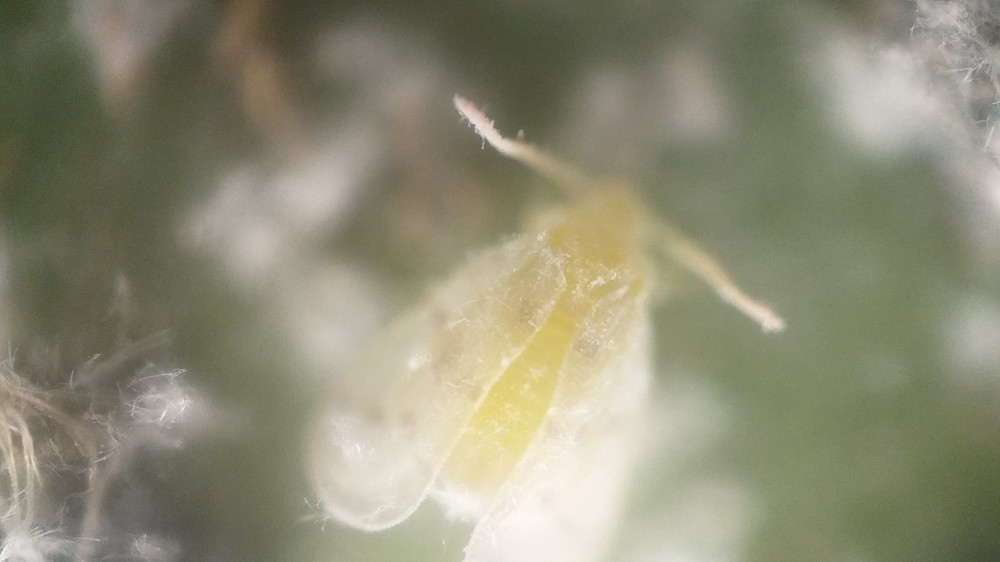Mosca Blanca: (291, 76, 801, 561)
